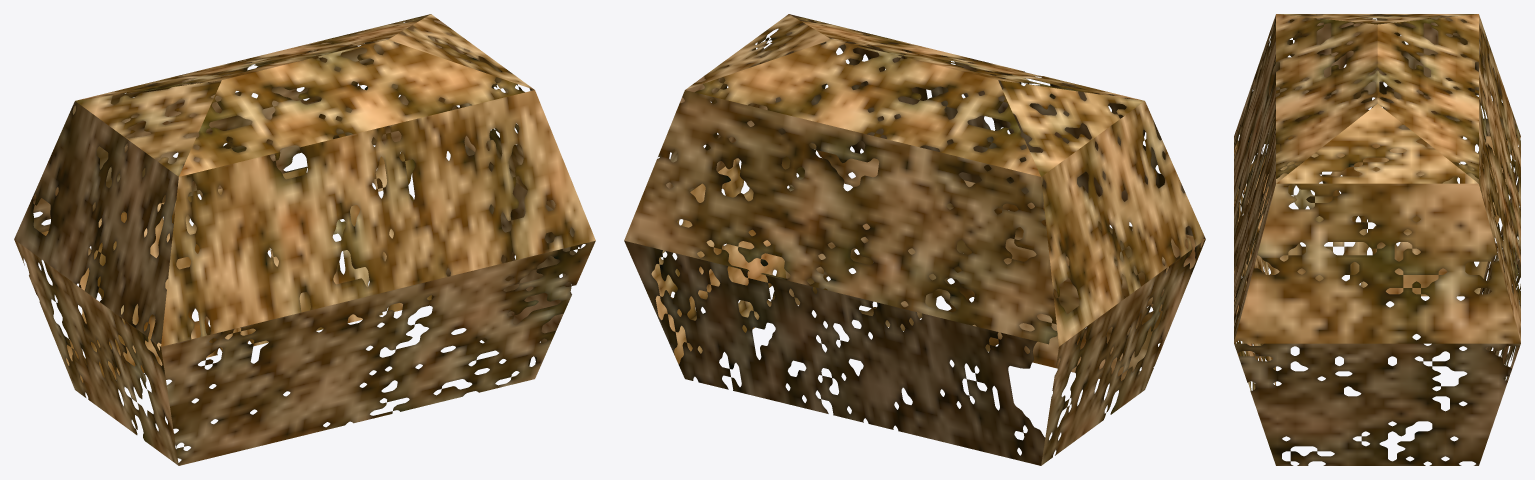
Rendered from bush_long_half_single_autumn.fbx.
3 renders of one model, left to right at view 1: azimuth 30°, elevation 25°; view 2: azimuth 150°, elevation 25°; view 3: azimuth 270°, elevation 25°, orthographic. The views are drawn at different scales.
Visible parts, largest first — view 1: bush_long_half_single_autumn; view 2: bush_long_half_single_autumn; view 3: bush_long_half_single_autumn.
Boxes of the visible parts, <box> form: bush_long_half_single_autumn: <box>14,14,595,465</box>; bush_long_half_single_autumn: <box>624,14,1205,465</box>; bush_long_half_single_autumn: <box>1234,14,1520,465</box>.
Bounding box in the file's own units: 123 × 87.65 × 71.91.
1 material, 1 textured.
